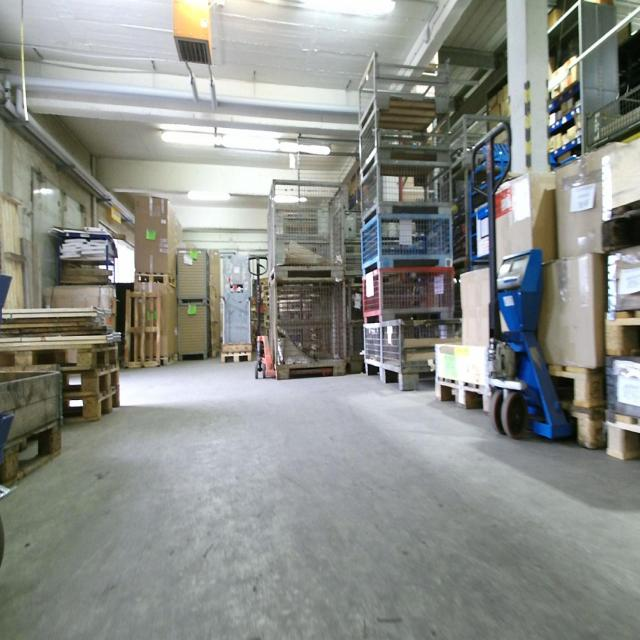pallet: (1, 415, 67, 492), (533, 366, 612, 409), (547, 405, 610, 457), (2, 345, 117, 373), (123, 288, 162, 369), (430, 370, 489, 416), (601, 299, 639, 360), (60, 390, 124, 425), (602, 409, 638, 463), (59, 367, 121, 392), (136, 270, 177, 290), (217, 349, 256, 365), (143, 349, 176, 367)
pallet_truck: (467, 114, 579, 446), (248, 247, 337, 379)
stillage: (267, 273, 346, 381), (267, 179, 345, 282), (358, 50, 452, 129), (330, 207, 419, 281), (360, 108, 452, 177), (381, 318, 460, 397), (360, 157, 453, 222), (360, 212, 452, 276), (439, 111, 516, 179), (362, 265, 456, 320), (584, 78, 639, 155), (449, 165, 485, 264), (177, 299, 211, 360), (346, 279, 367, 375), (176, 248, 210, 302), (450, 259, 475, 320), (362, 319, 382, 378)
